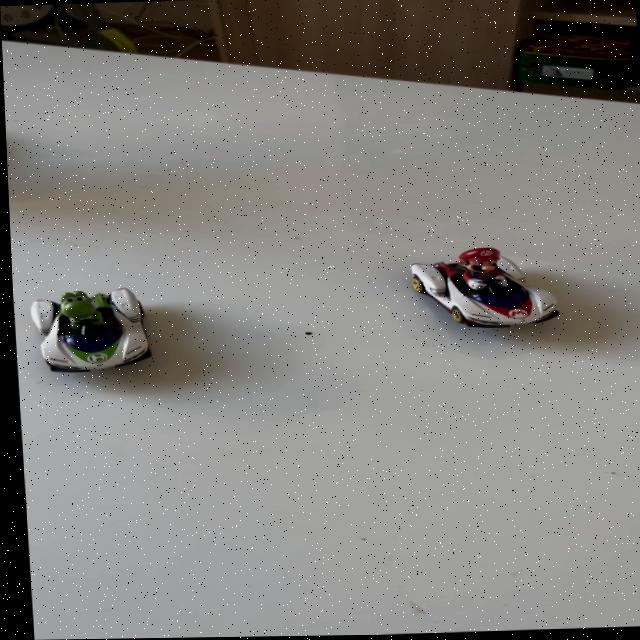mario: (384, 237, 575, 342)
yoshi: (10, 274, 174, 380)
